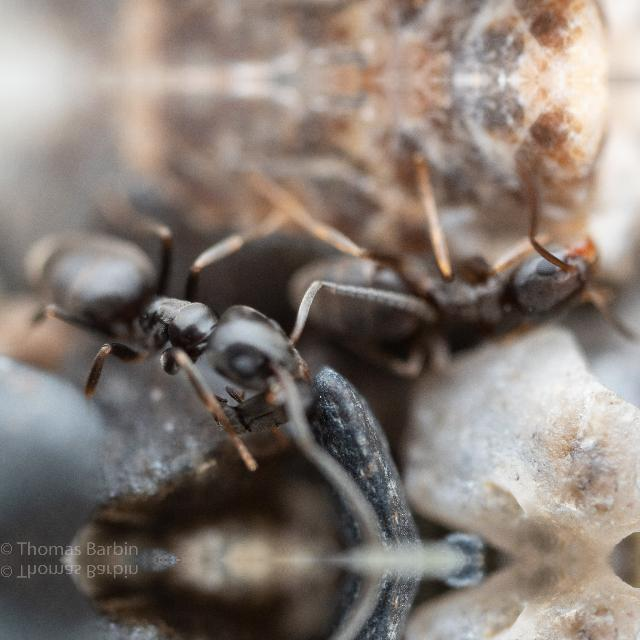Tapinoma: (1, 197, 359, 445), (306, 206, 618, 390)
